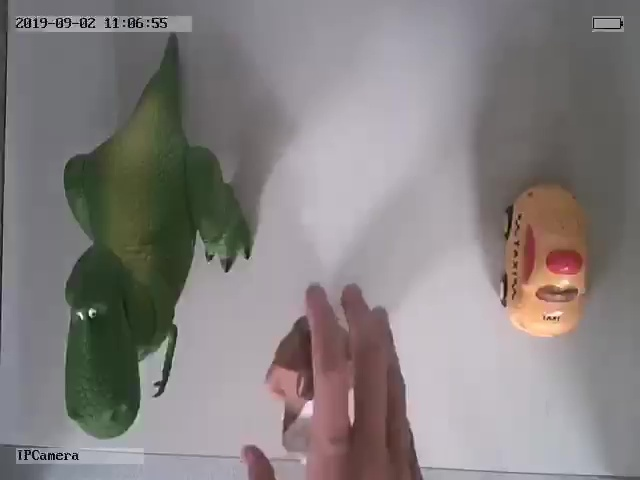car: (499, 182, 589, 338)
rex: (61, 56, 252, 442)
